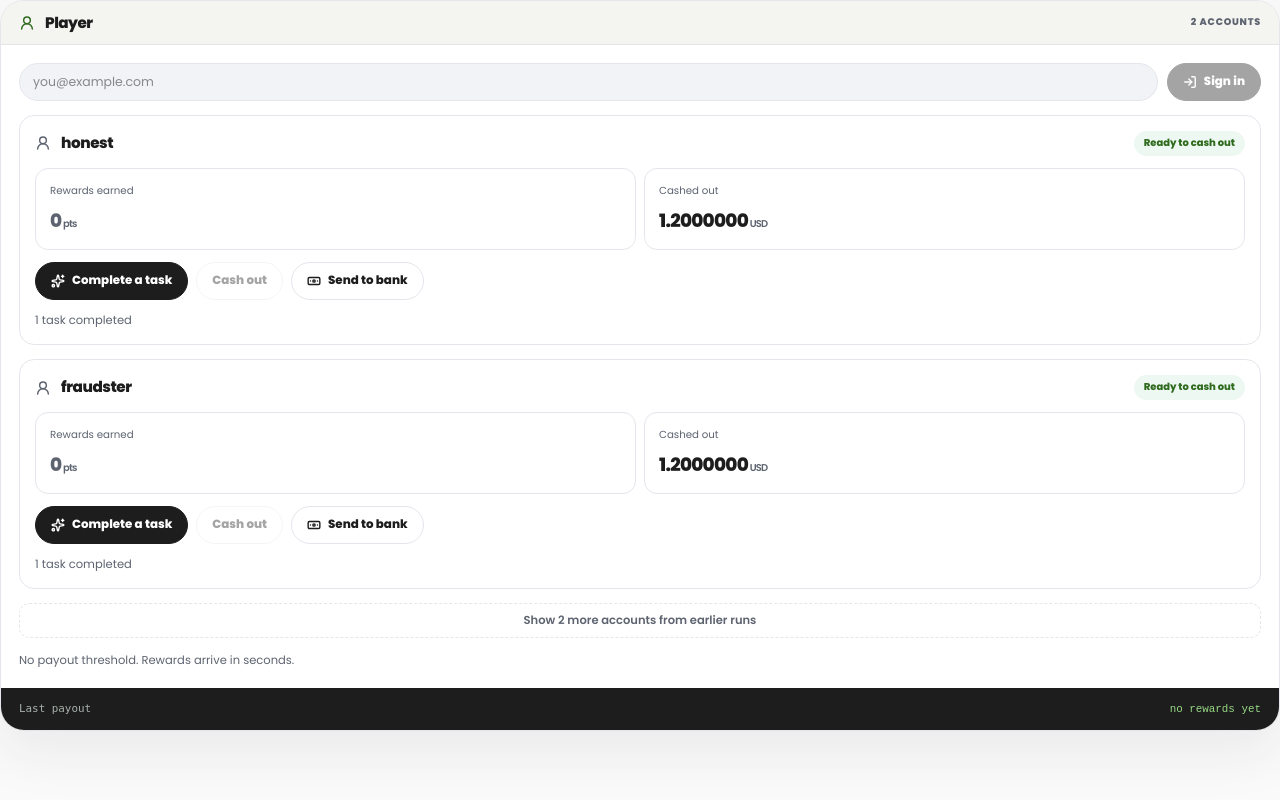
Test: player panel › shows the walkthrough accounts and offers the rest behind a count
expect the text "honest" is shown: met, box top-left (61, 132), bottom-right (113, 155)
expect the text "fraudster" is shown: met, box top-left (61, 376), bottom-right (132, 399)
Click the button "Show 2 more accounts from earlier runs" at (640, 621), box top-left (19, 603), bottom-right (1261, 638)
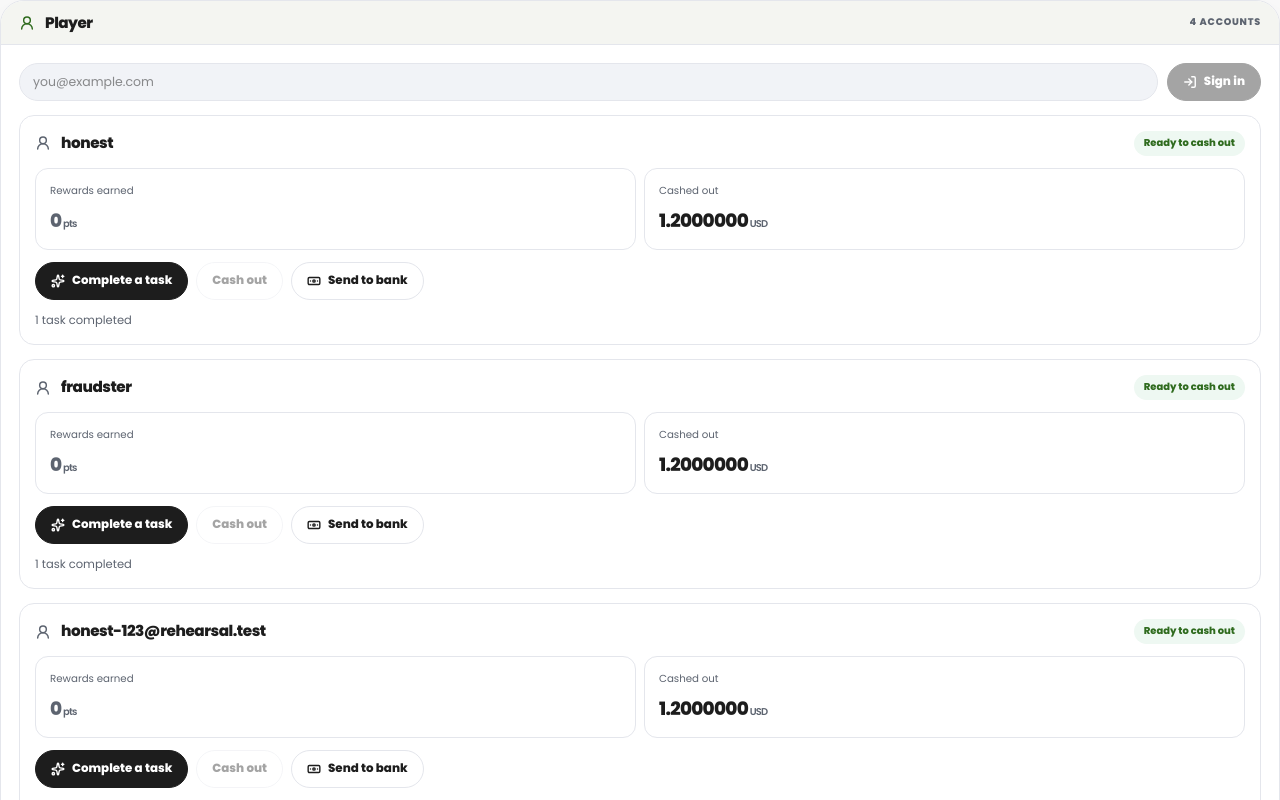
expect the text "honest-123@rehearsal.test" is shown: met, box top-left (61, 620), bottom-right (266, 643)
